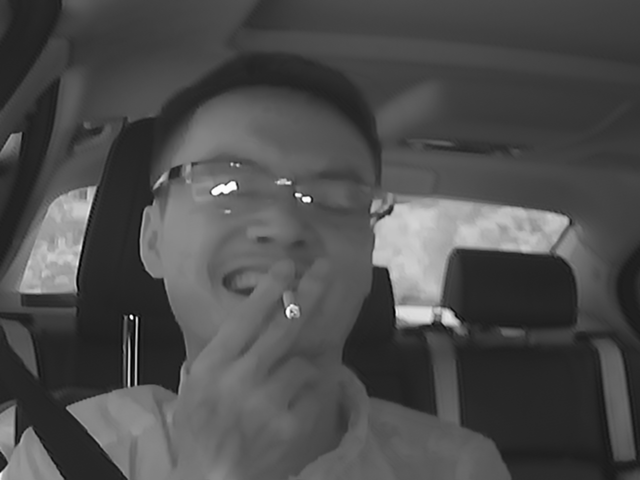hand: (188, 261, 337, 444)
